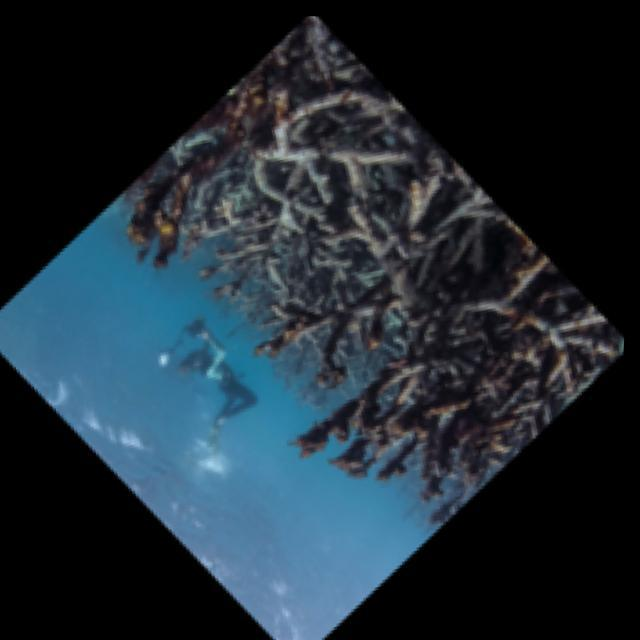Dead Coral: (218, 263, 630, 548), (99, 52, 398, 328), (224, 195, 516, 403)
